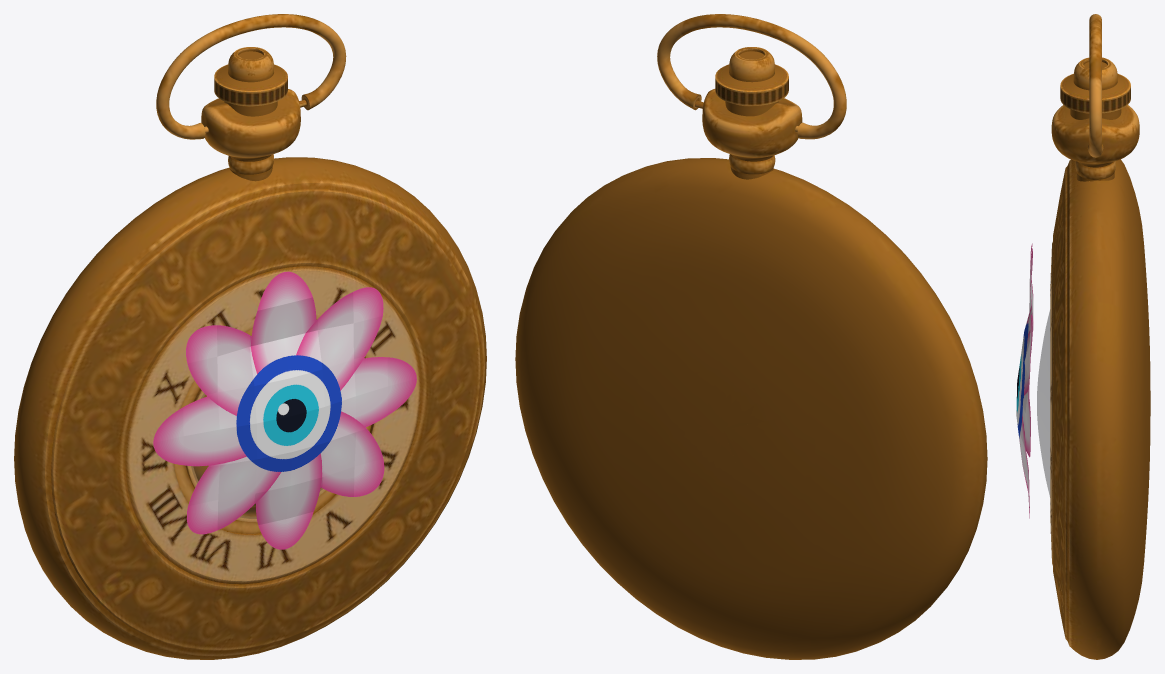
The model's file is nyb_nys_watch.glb.
The picture shows the model from 3 angles, left to right: view 1: azimuth 30°, elevation 25°; view 2: azimuth 150°, elevation 25°; view 3: azimuth 270°, elevation 25°; orthographic projection. The views are drawn at different scales.
Visible parts, largest first — view 1: vintage_pocket_watch, stk_eyeflower.png; view 2: vintage_pocket_watch; view 3: vintage_pocket_watch, stk_eyeflower.png.
Boxes of the visible parts, box(x1,y1,x2,y2) form: vintage_pocket_watch: box(14, 14, 486, 659); stk_eyeflower.png: box(153, 271, 416, 549); vintage_pocket_watch: box(515, 14, 987, 659); vintage_pocket_watch: box(1037, 14, 1150, 659); stk_eyeflower.png: box(1016, 243, 1033, 518).
Bounding box in the file's own units: 0.0613 × 0.0799 × 0.016.
4 materials, 2 textured.
